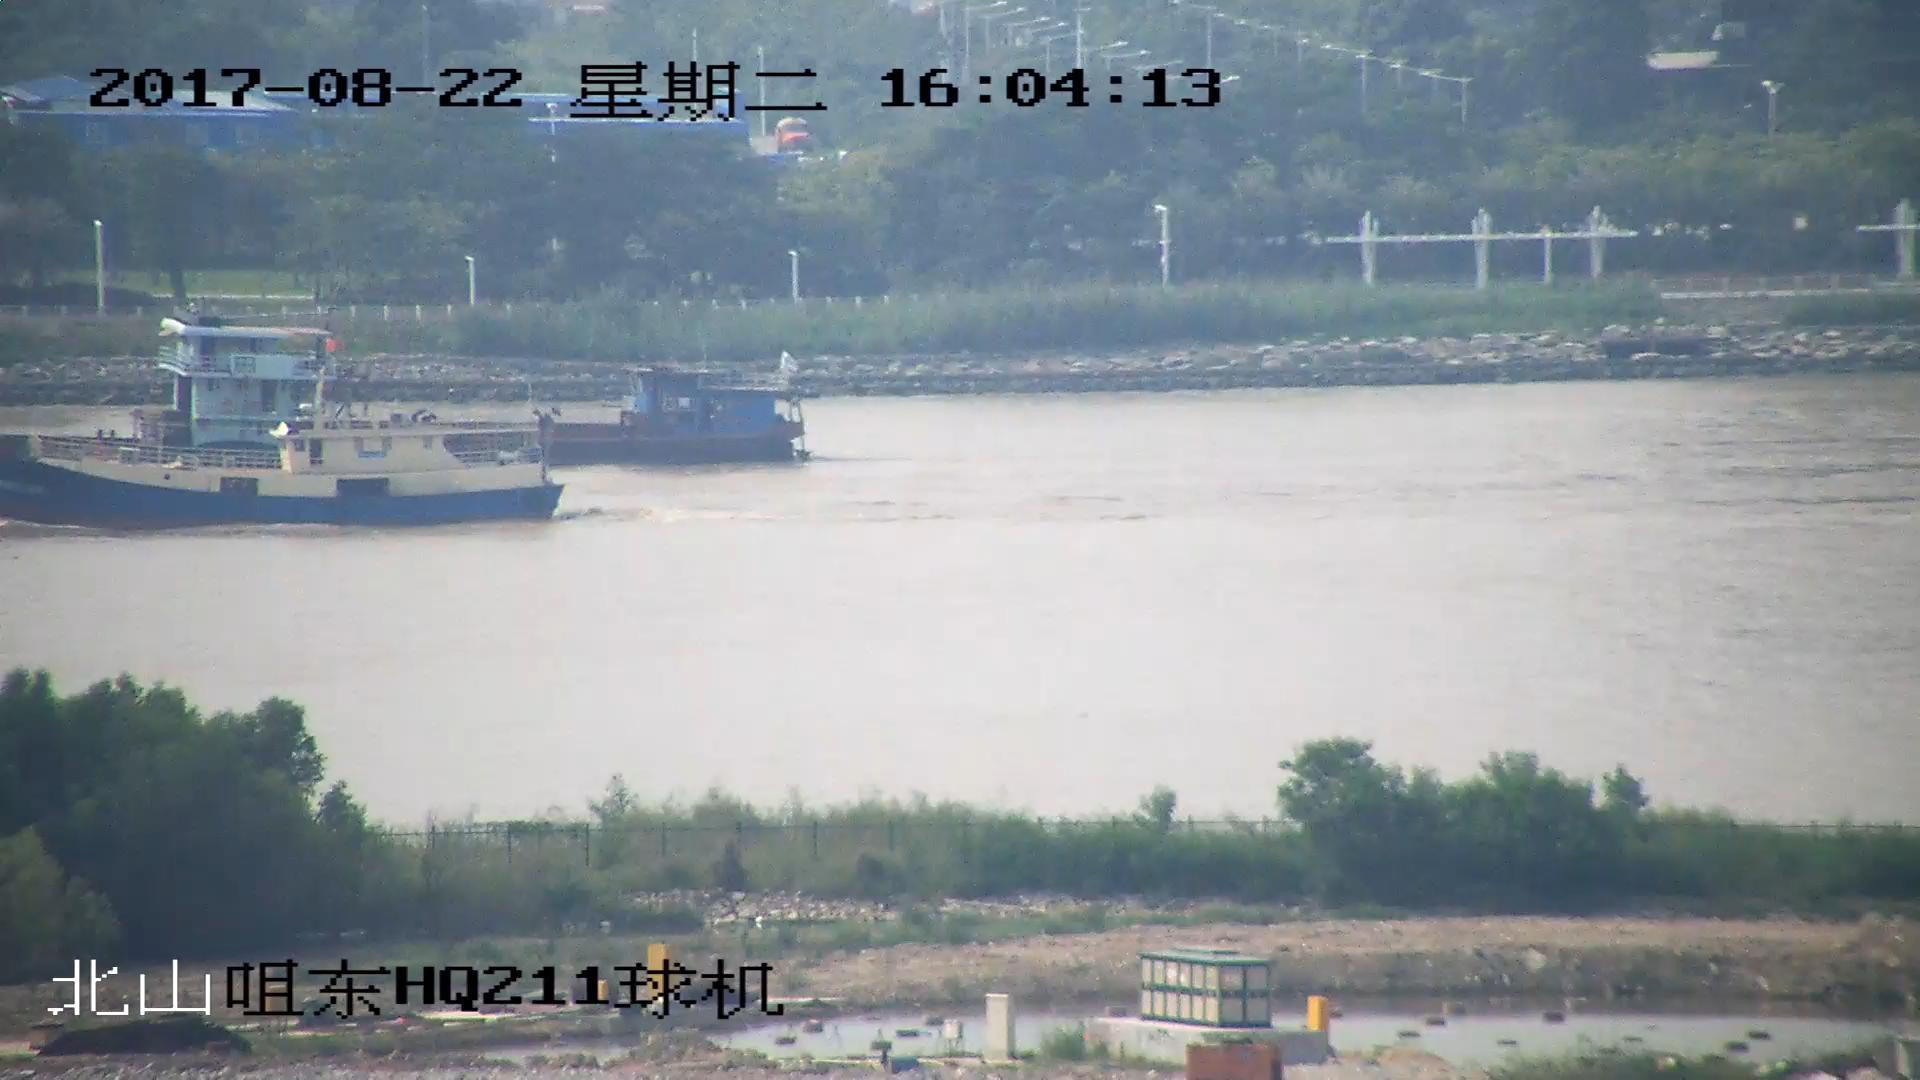Ship: (3, 345, 568, 534), (132, 367, 820, 479), (3, 307, 332, 483)
